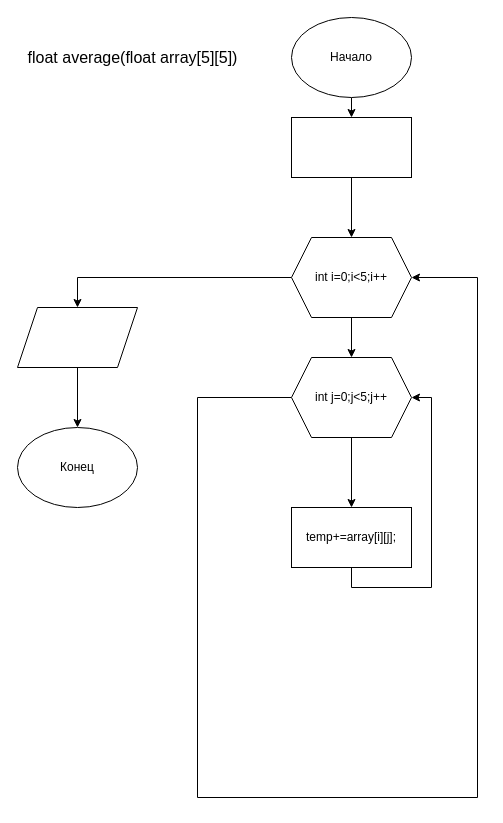
Some shapes in this 503 by 823 pixel diagram are drawn without their labels. The shapes that lost their labels are listed below. From the top down, each one's centre as x and y in pixels, then its label:
(351,147): temp = 0
(77,337): return temp/25
